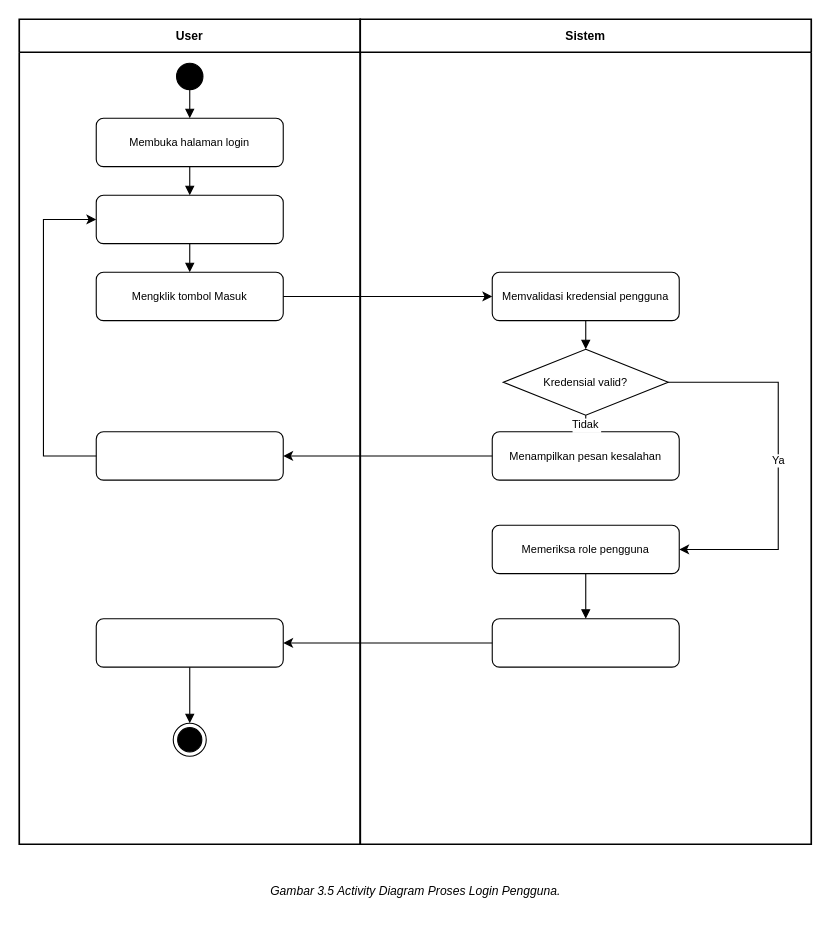
The diagram is 832 pixels wide and 927 high, and some of its shapes have lost their labels. The centre of each missing label's shape, as x and y in pixels:
"Melihat pesan kesalahan login" belongs at point 189,455.
"Mengakses dashboard sesuai role" belongs at point 189,642.
"Mengarahkan ke halaman dashboard sesuai role" belongs at point 585,642.
"Mengisi email dan password" belongs at point 189,219.
